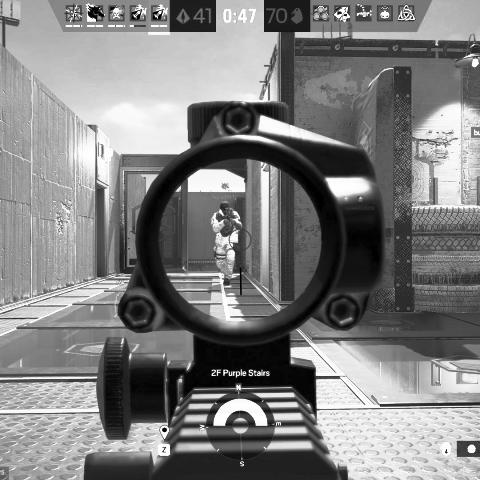Character: (210, 200, 243, 286)
Friend_label: (346, 194, 376, 211), (212, 182, 238, 199)
Head: (220, 202, 230, 214)
